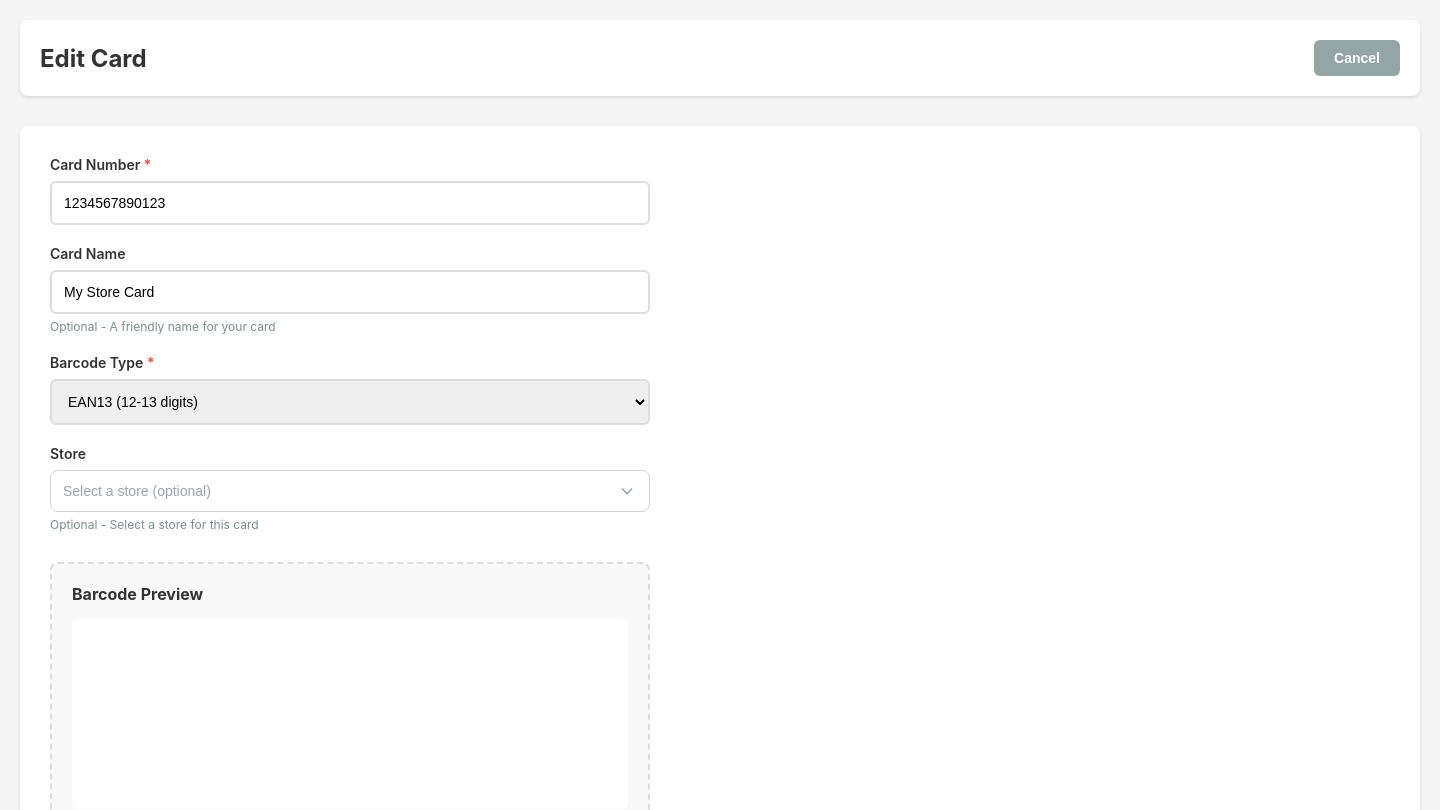
Test: EditCardView - US-5.1: Edit Existing Card › Form Validation › should validate EAN13 format
Set invalid EAN13
Replace the text in the field with id "cardNumber" with "123" at (350, 203), box [50,181,650,225]
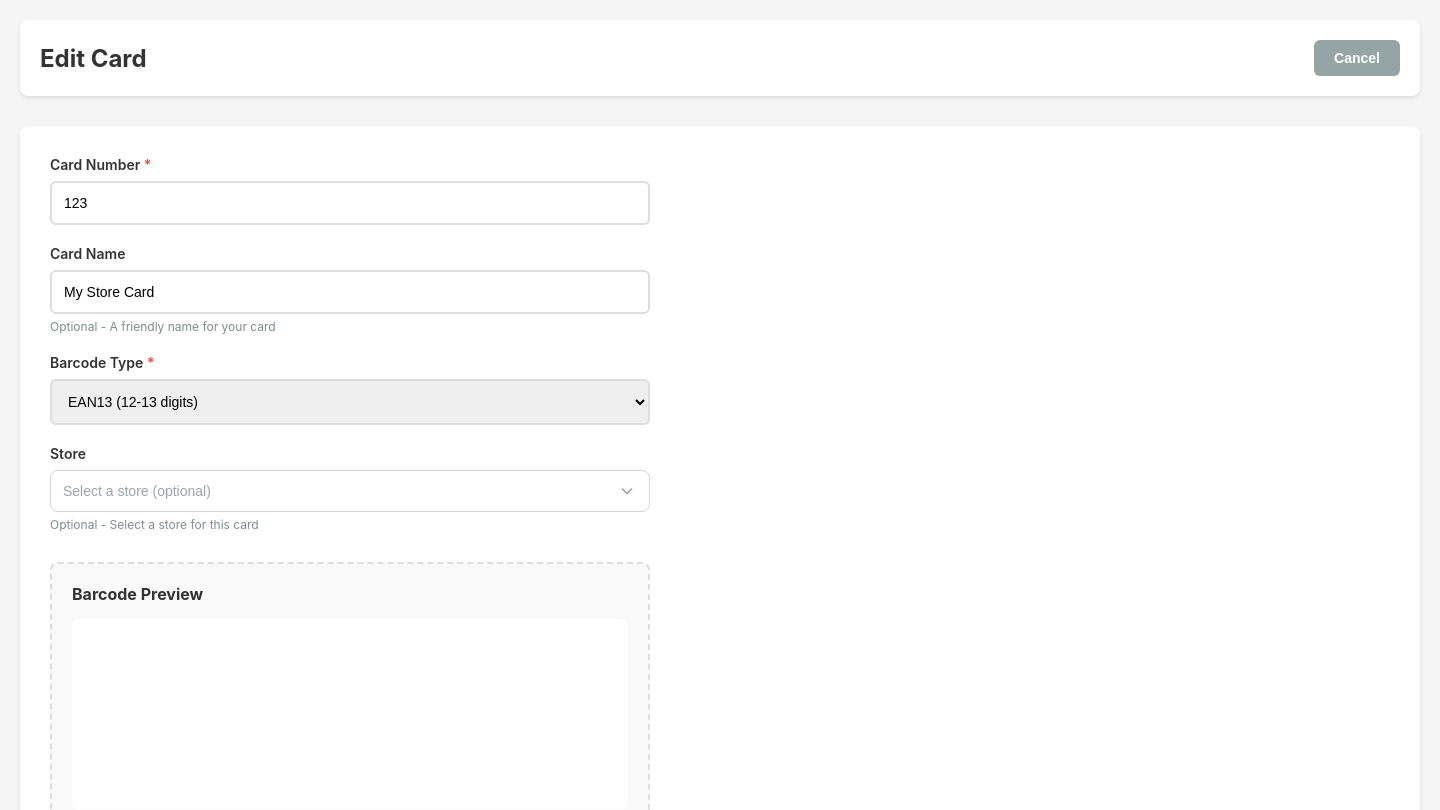
Leave the field with id "cardNumber", box [50,181,650,225]
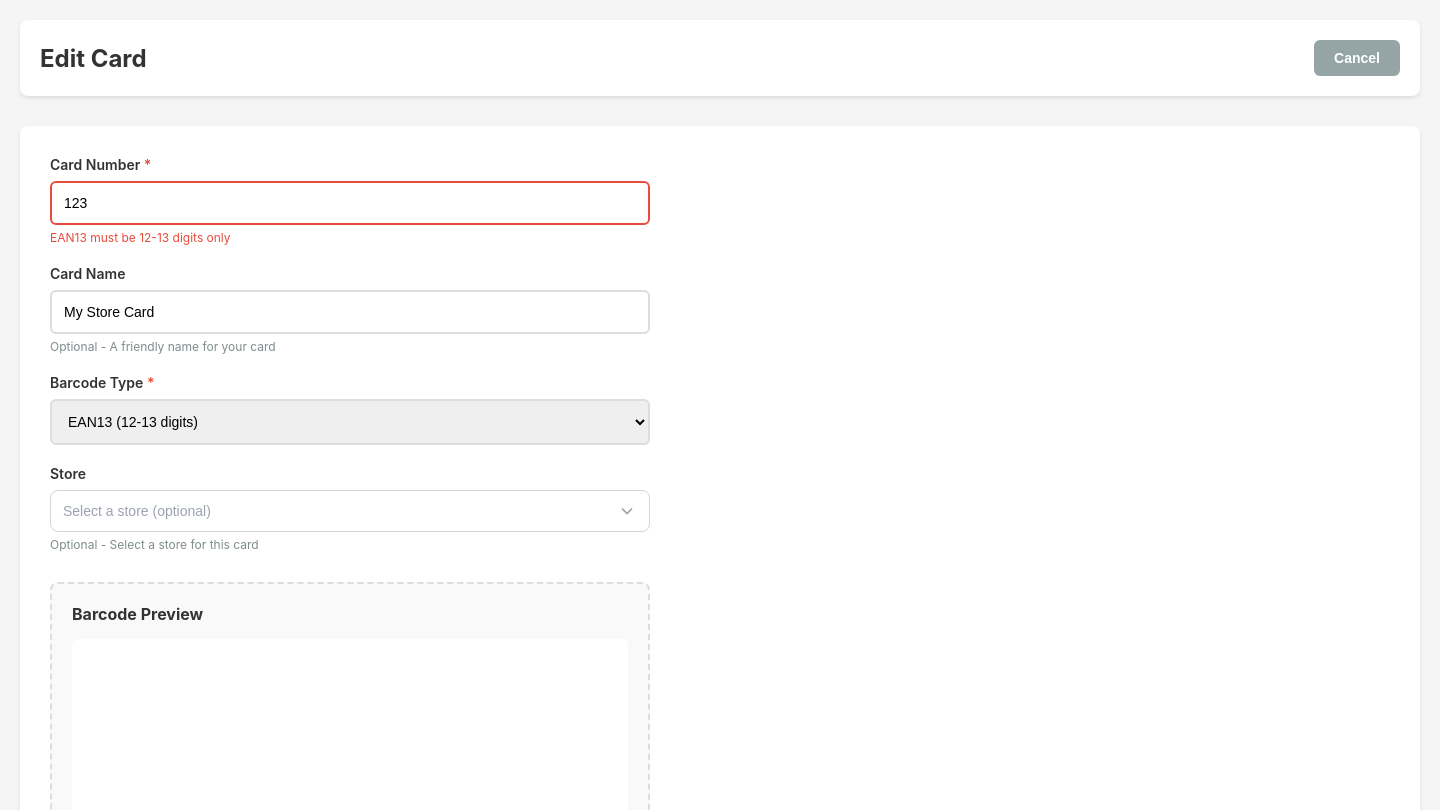
Check: the text with class "error-message" reads "EAN13 must be 12-13 digits only", box [50,230,231,245]
